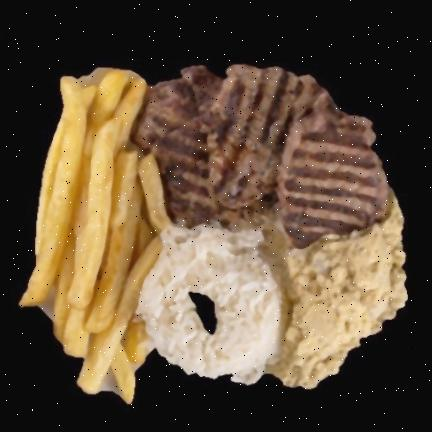meat: (134, 64, 388, 247)
potato: (21, 68, 160, 401)
rice: (137, 224, 281, 383)
